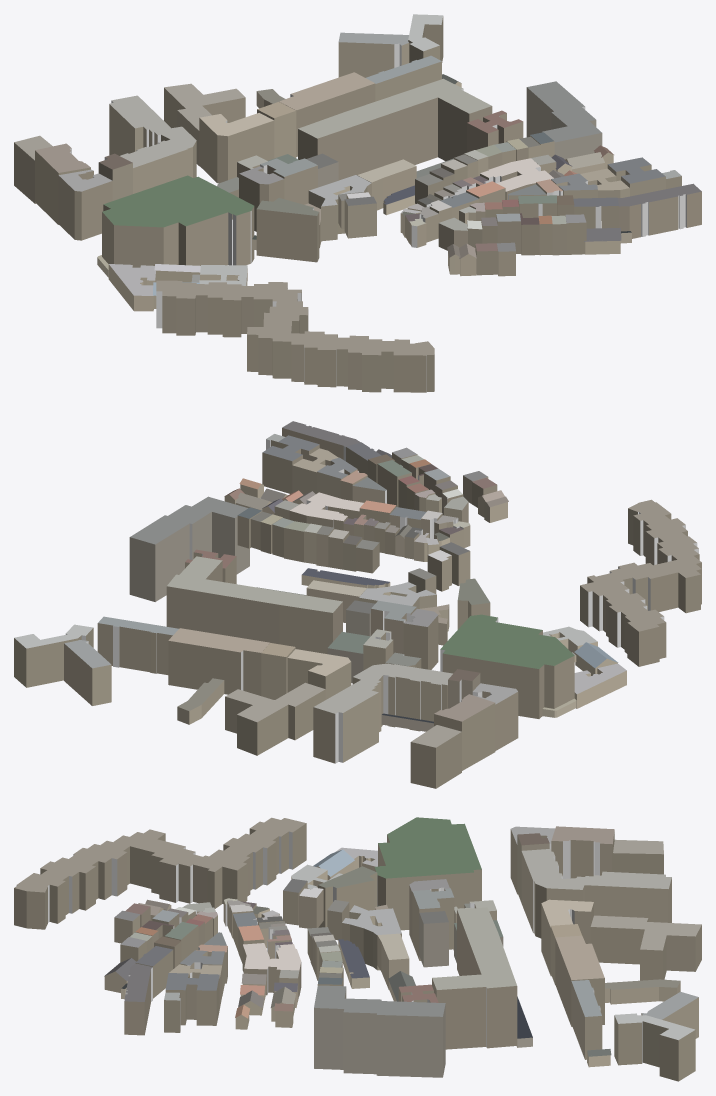
The picture shows the model from 3 angles, top to bottom: view 1: azimuth 30°, elevation 25°; view 2: azimuth 150°, elevation 25°; view 3: azimuth 270°, elevation 25°; orthographic projection. The views are drawn at different scales.
Parts seen in each view (by area): view 1: tuile; view 2: tuile; view 3: tuile.
Part boxes in pixels (x1,y1,x2,y2): tuile: [14, 14, 701, 392]; tuile: [14, 421, 701, 788]; tuile: [14, 817, 701, 1081].
Size of the model in its own units: 248 by 45.33 by 305.
